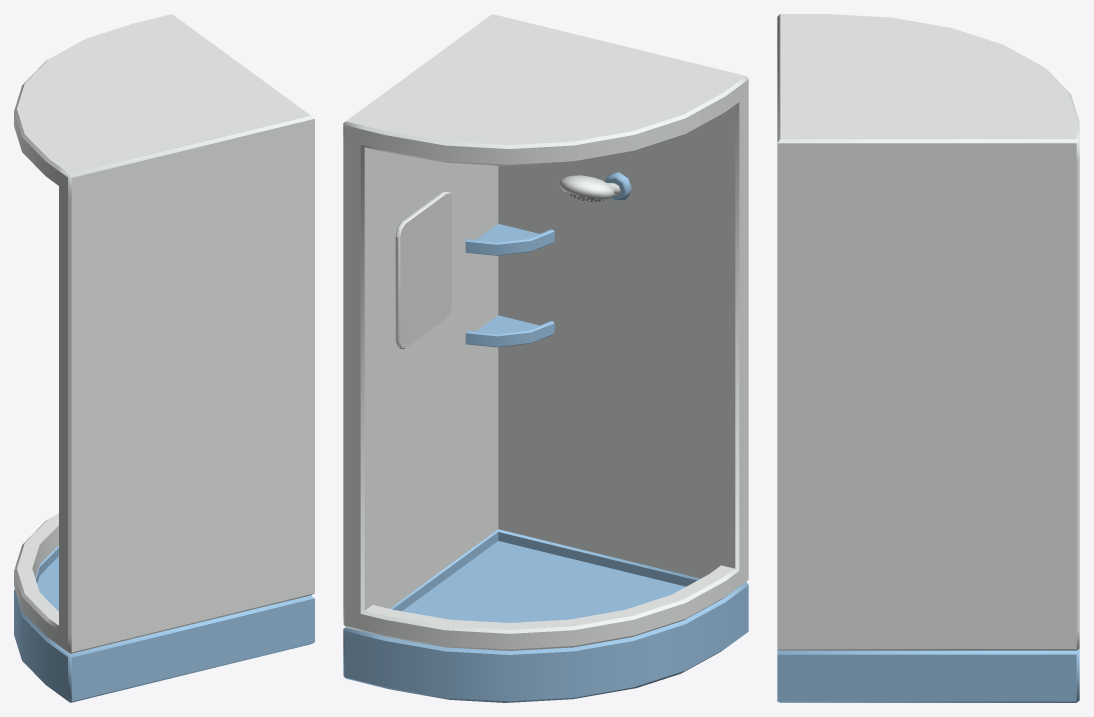
The model's file is Shower.fbx.
3 renders of one model, left to right at view 1: azimuth 30°, elevation 25°; view 2: azimuth 150°, elevation 25°; view 3: azimuth 270°, elevation 25°, orthographic. The views are drawn at different scales.
Parts seen in each view (by area): view 1: Shower; view 2: Shower; view 3: Shower.
Boxes of the visible parts, <box> form: Shower: <box>14,14,314,702</box>; Shower: <box>343,14,748,702</box>; Shower: <box>777,14,1079,702</box>.
Bounding box in the file's own units: 0.9701 × 2 × 0.9701.
